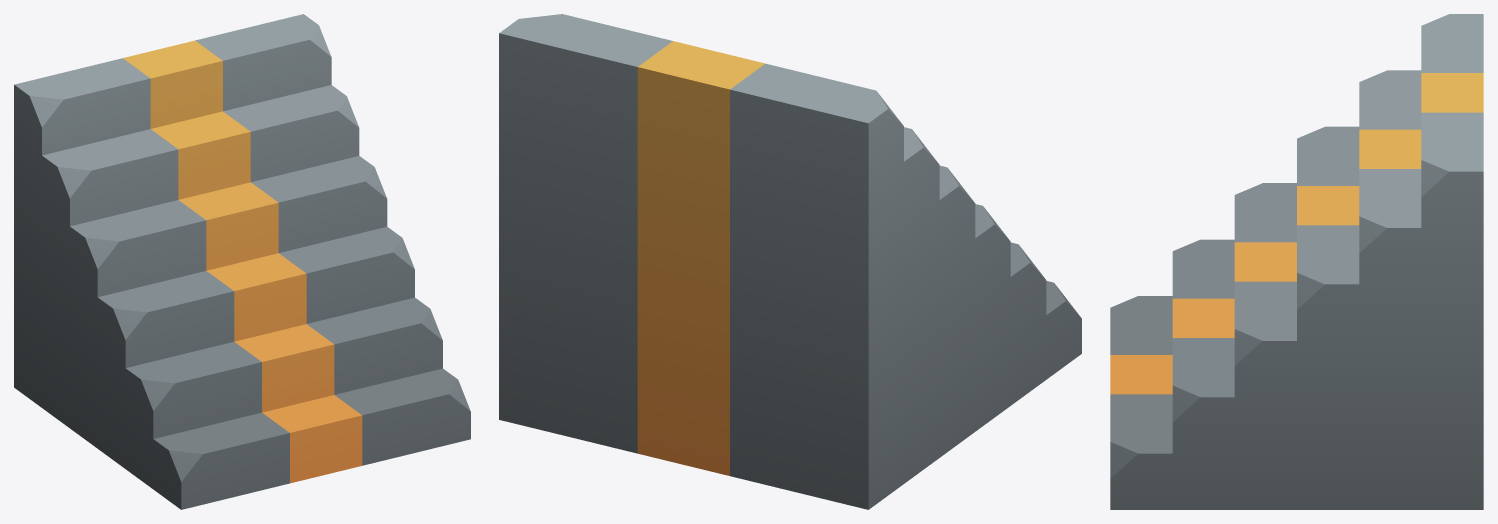
File: stairs_high.gltf.glb
The picture shows the model from 3 angles, left to right: view 1: azimuth 30°, elevation 25°; view 2: azimuth 150°, elevation 25°; view 3: azimuth 270°, elevation 25°; orthographic projection. The views are drawn at different scales.
Visible parts, largest first — view 1: stairs_high; view 2: stairs_high; view 3: stairs_high.
Part boxes in pixels (bbox=[...]): stairs_high: bbox=[14, 14, 470, 509]; stairs_high: bbox=[499, 14, 1081, 509]; stairs_high: bbox=[1110, 14, 1483, 509].
Size of the model in its own units: 2 by 2 by 2.
Materials: 1 (1 with a texture image).
